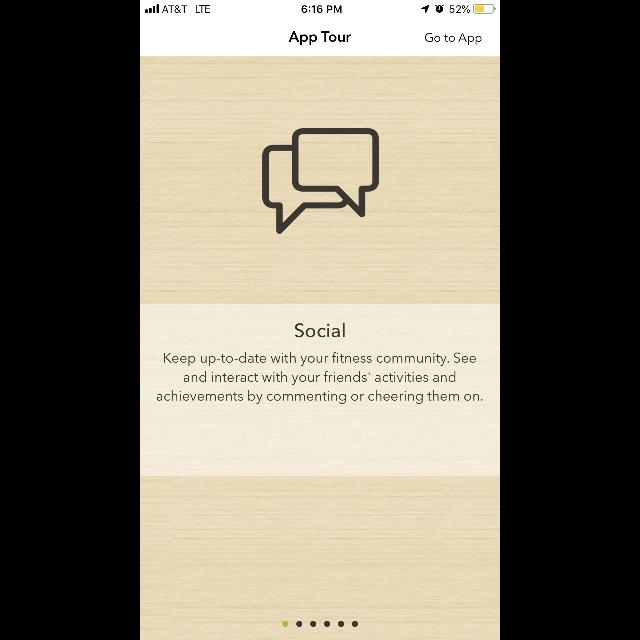image: (262, 128, 380, 234)
pageindicator: (282, 621, 358, 627)
text: (157, 352, 483, 404), (289, 32, 351, 46), (295, 322, 345, 338), (425, 33, 481, 45)
uppertaskbar: (140, 0, 500, 14)
